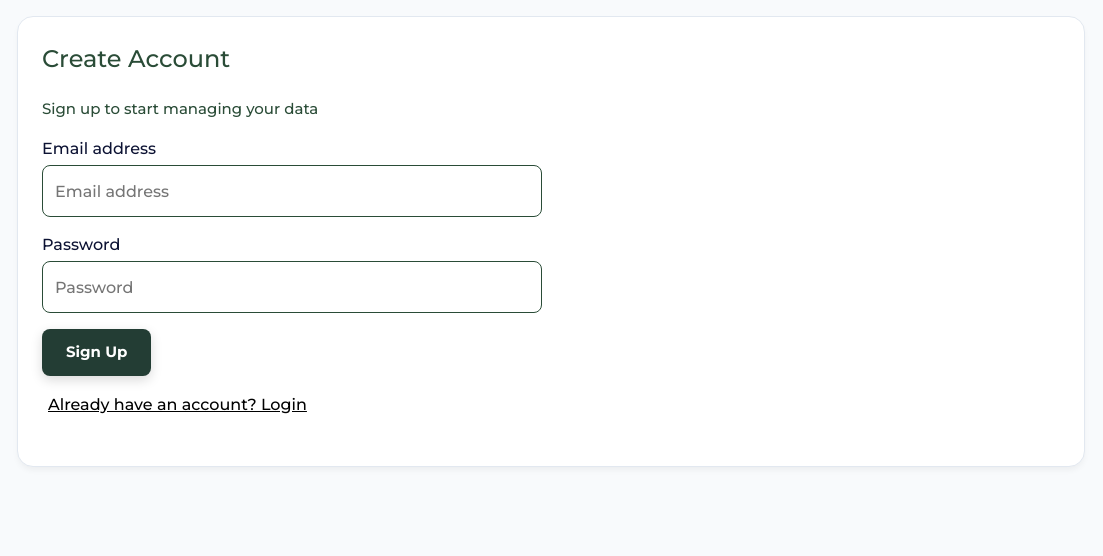
Test case: Login signup › shows an error and does not sign up when the email is already registered
The image size is (1103, 556).
Type "Existing@Example.com " into the field labelled "Email address" at (292, 191), box [42, 165, 542, 217]
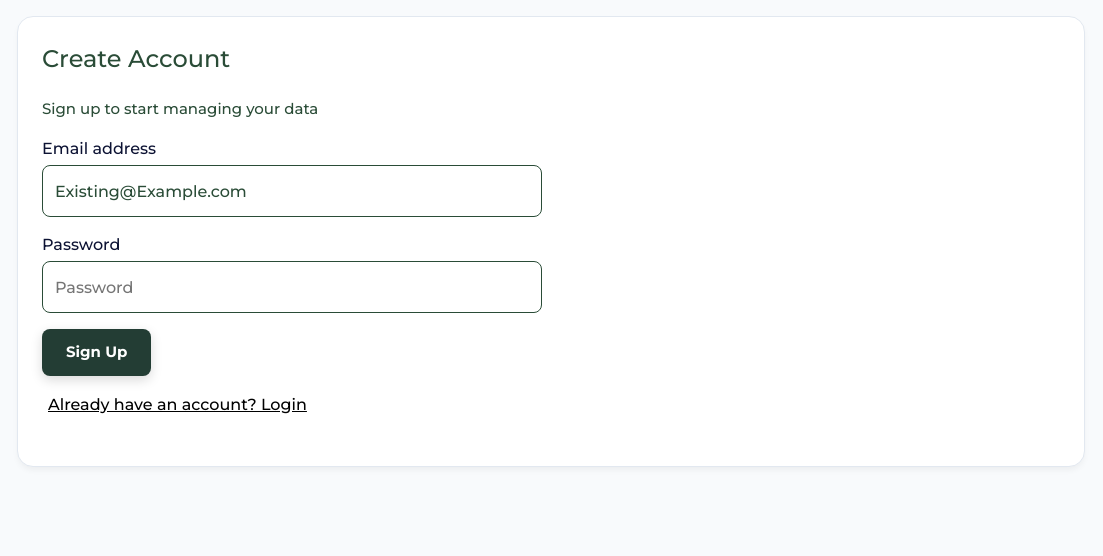
Type "password123" into the password field labelled "Password" at (292, 287), box [42, 261, 542, 313]
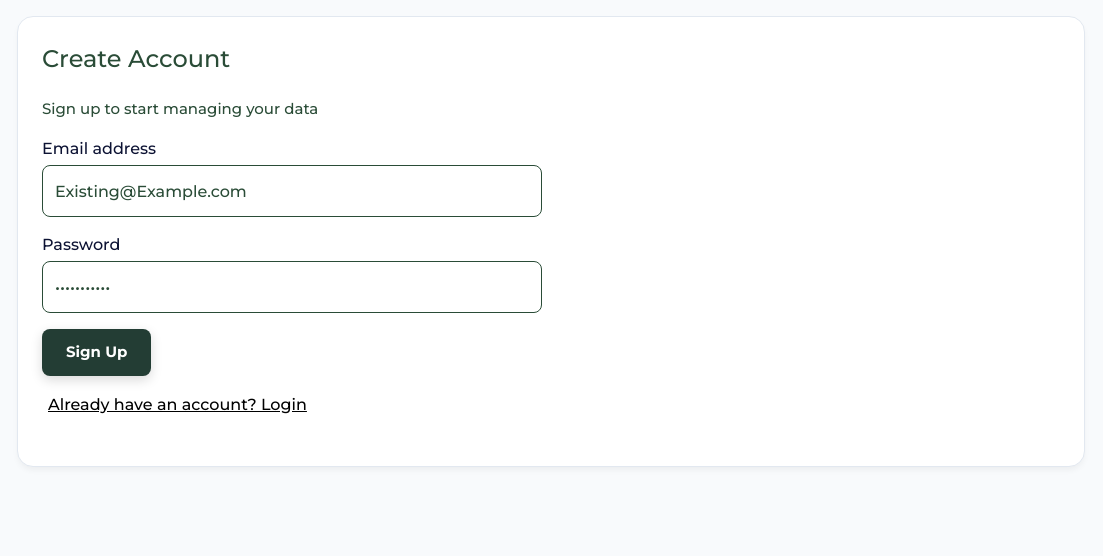
Click the button "Sign Up" at (97, 352), box [42, 329, 151, 376]
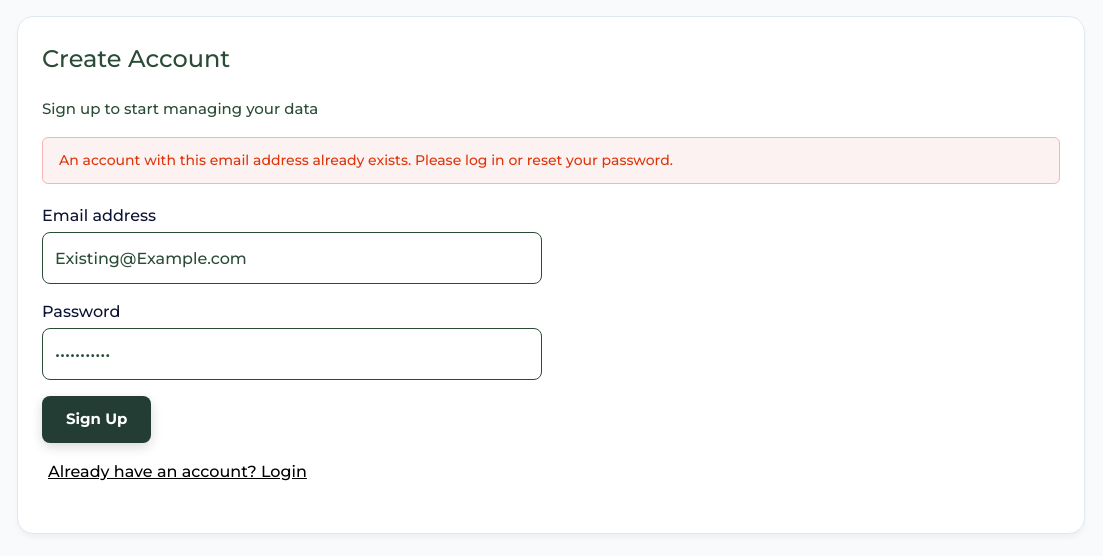
Expected: the text "account with this email address already exists" is shown, [59, 151, 673, 169]
